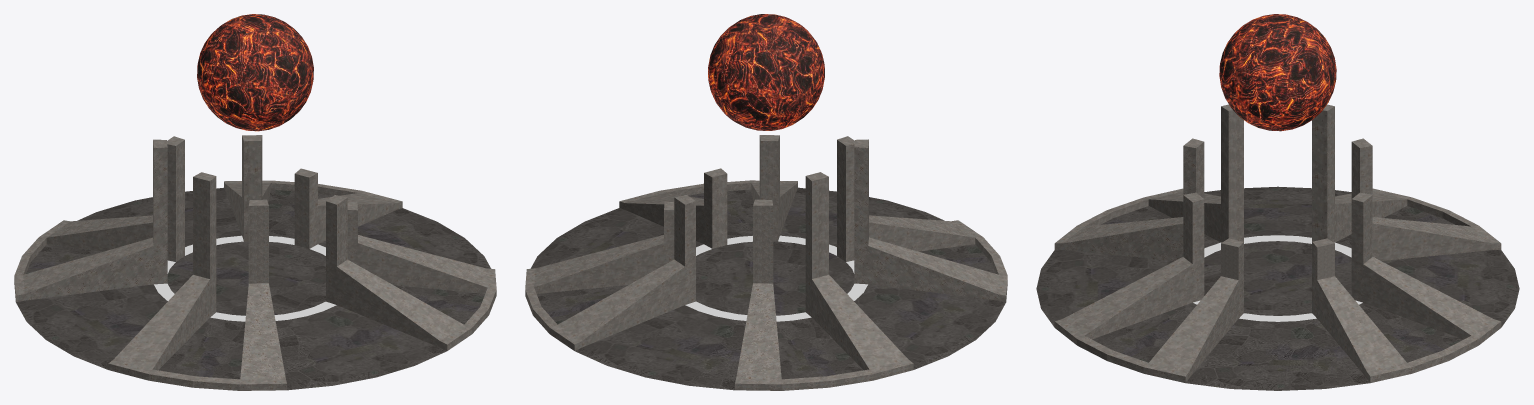
The picture shows the model from 3 angles, left to right: view 1: azimuth 30°, elevation 25°; view 2: azimuth 150°, elevation 25°; view 3: azimuth 270°, elevation 25°; orthographic projection.
Visible parts, largest first — view 1: Root, Sphere; view 2: Root, Sphere; view 3: Root, Sphere.
Part boxes in pixels (box(x1,y1,x2,y2)): Root: box(14, 135, 496, 390); Sphere: box(197, 14, 313, 131); Root: box(525, 135, 1007, 390); Sphere: box(708, 14, 824, 130); Root: box(1036, 104, 1519, 390); Sphere: box(1219, 14, 1336, 131).
Bounding box in the file's own units: 5.26 × 3.24 × 5.26.
Materials: 3 (3 with a texture image).
